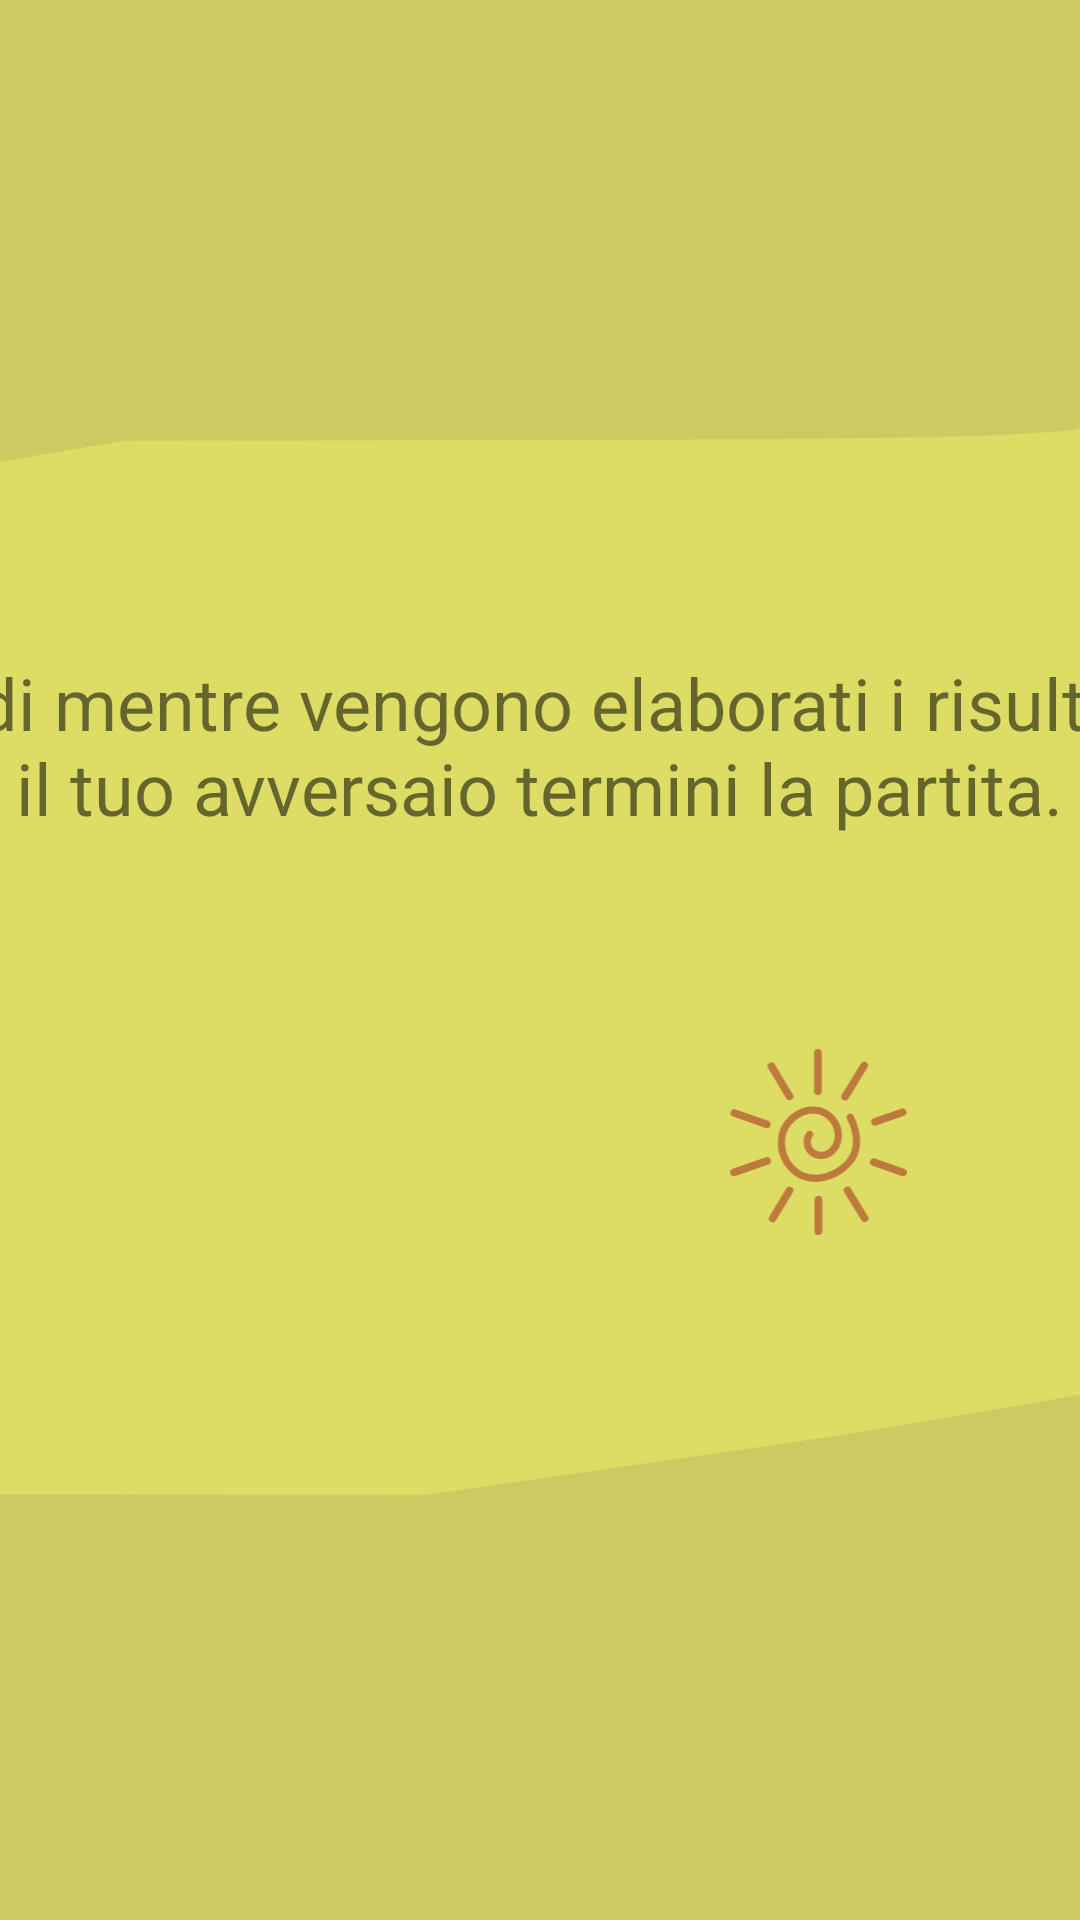

Point at icon controls on the screen. Image size 1080w x 1920h, points as [x,y].
sole: [818,1142]
